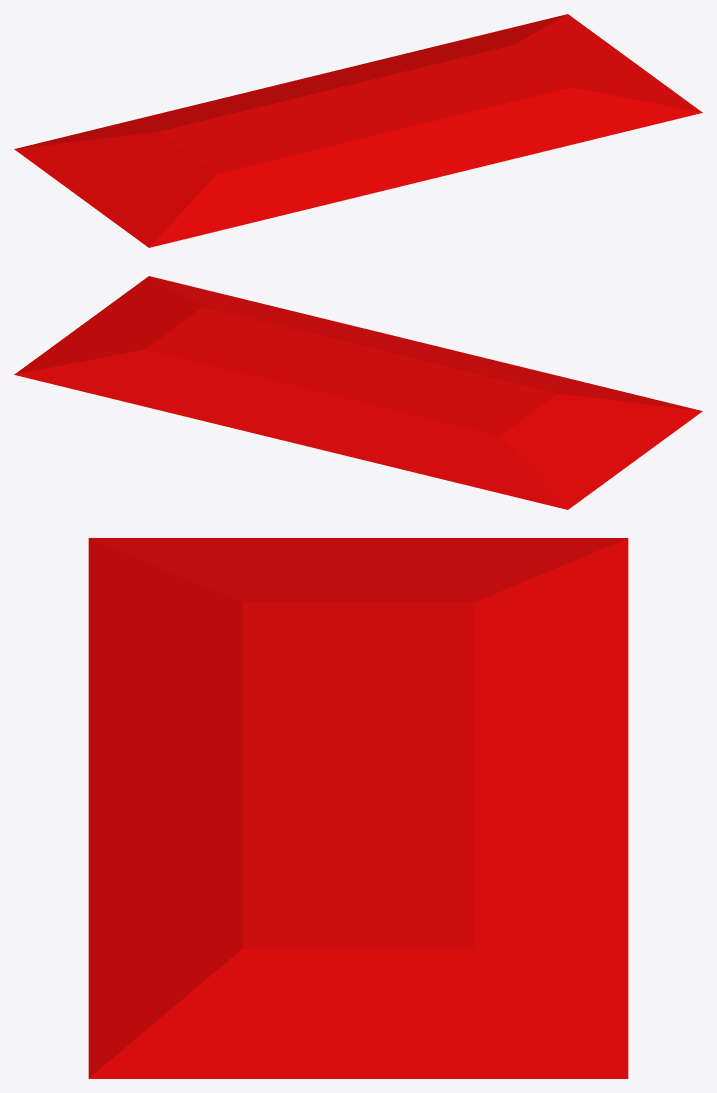
The model's file is SM_Env_RoadPiece_Damaged_03_Collision.fbx.
The picture shows the model from 3 angles, top to bottom: view 1: azimuth 30°, elevation 25°; view 2: azimuth 150°, elevation 25°; view 3: azimuth 270°, elevation 25°; orthographic projection. The views are drawn at different scales.
Parts seen in each view (by area): view 1: SM_Env_RoadPiece_Damaged_03_Collision; view 2: SM_Env_RoadPiece_Damaged_03_Collision; view 3: SM_Env_RoadPiece_Damaged_03_Collision.
Boxes of the visible parts, bbox=[...] form: SM_Env_RoadPiece_Damaged_03_Collision: bbox=[14, 14, 702, 247]; SM_Env_RoadPiece_Damaged_03_Collision: bbox=[14, 276, 702, 509]; SM_Env_RoadPiece_Damaged_03_Collision: bbox=[88, 538, 628, 1078].
Size of the model in its own units: 516 by 17.6 by 218.
